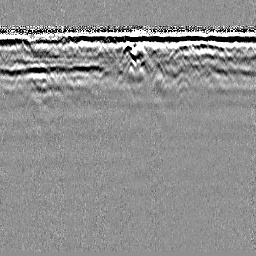cavity: (119, 39, 138, 61)
